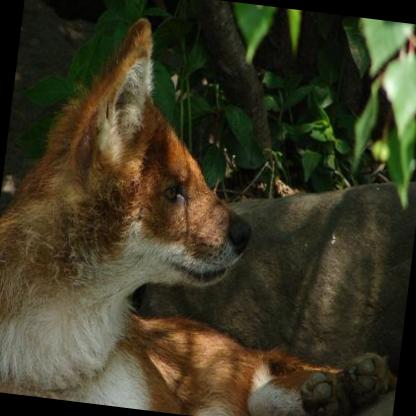dhole: (0, 2, 416, 416)
